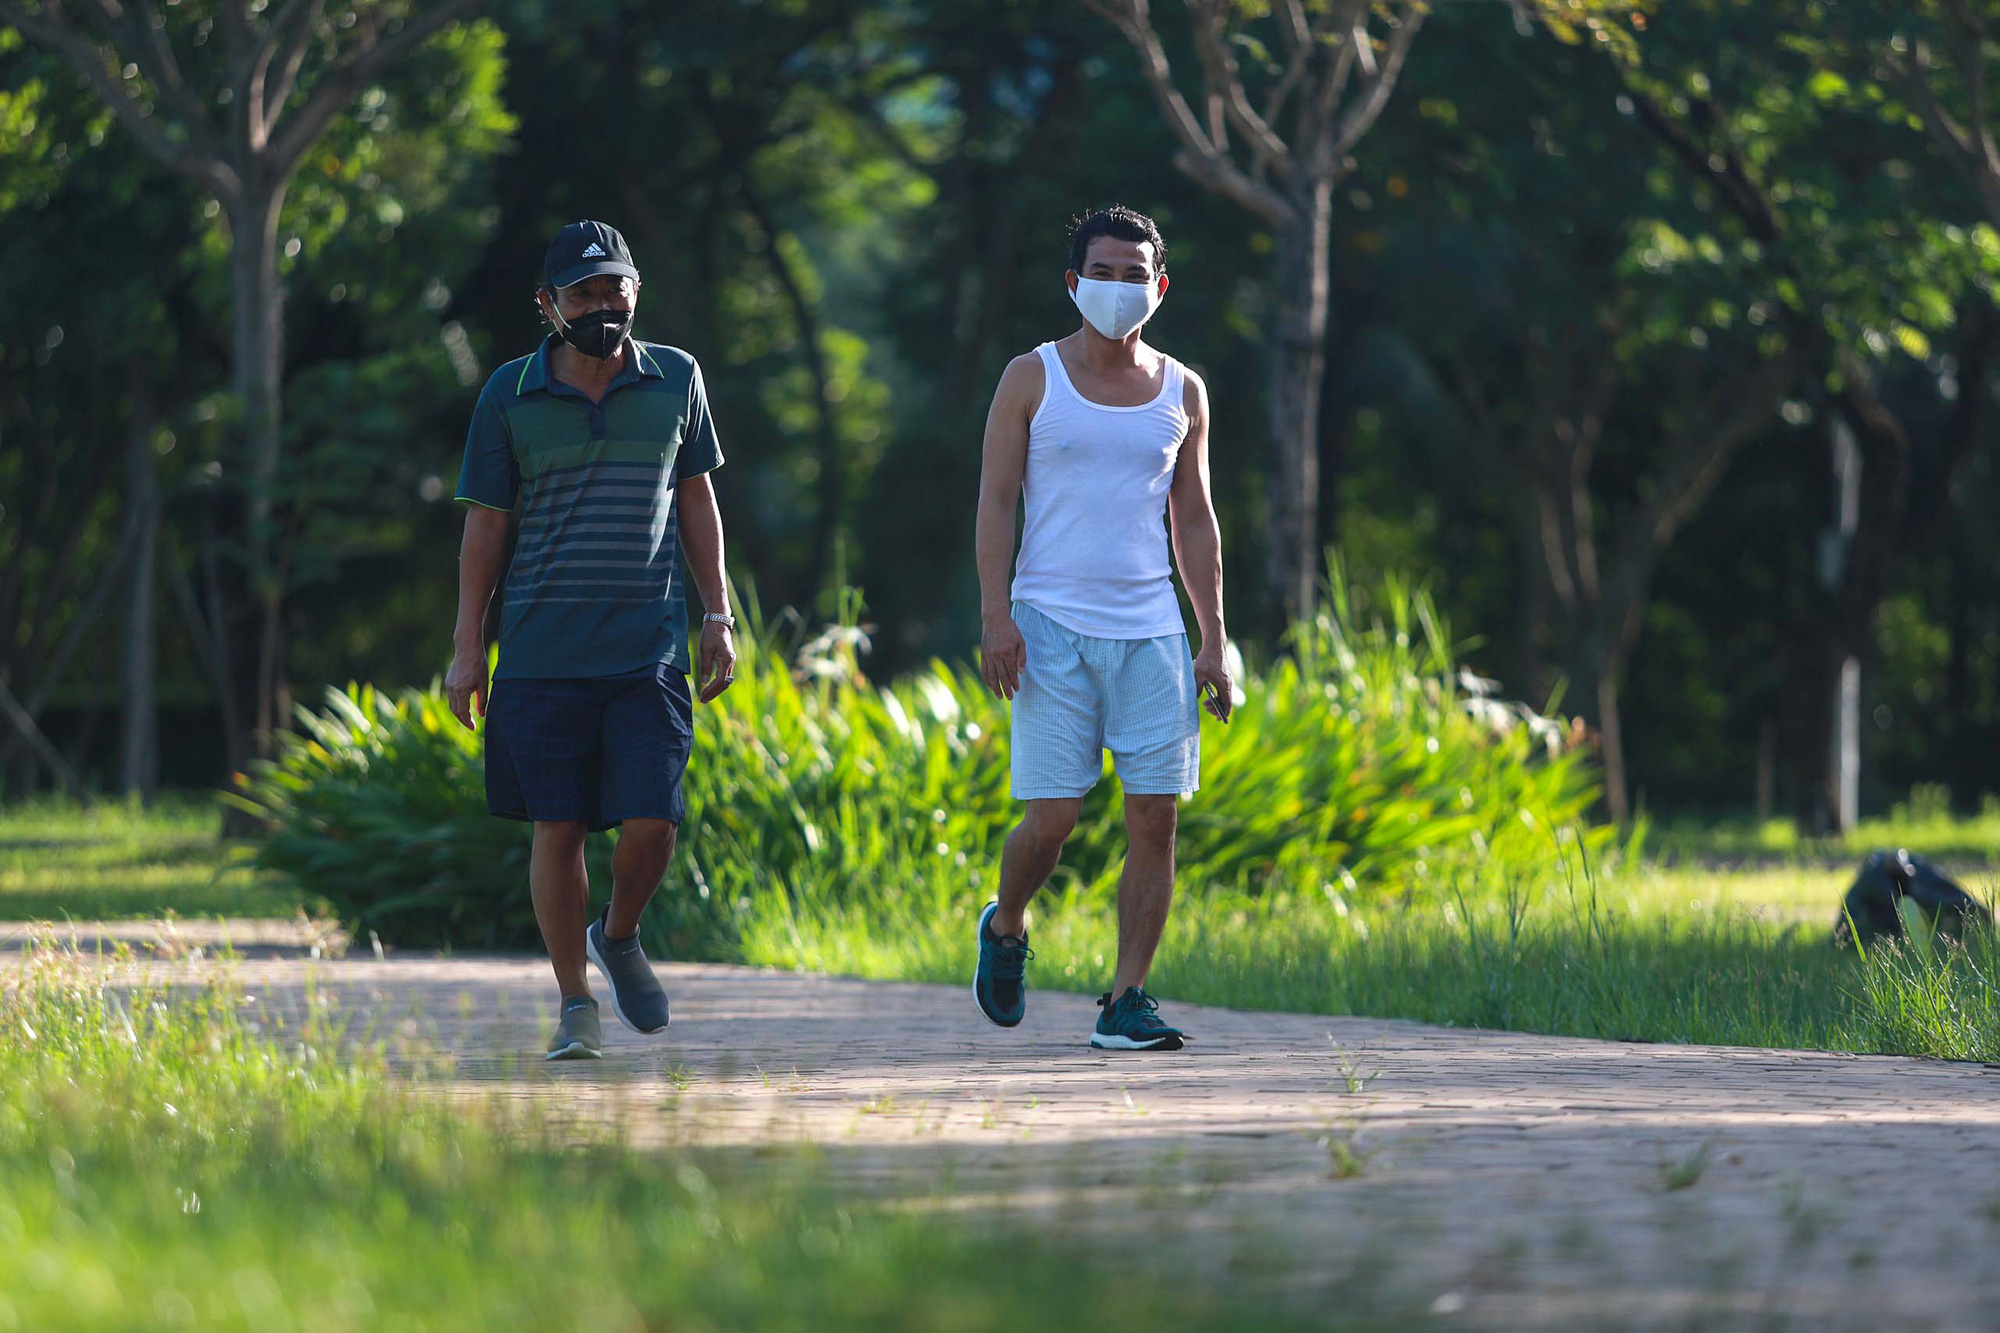person: (425, 200, 758, 1081), (941, 185, 1259, 1075)
